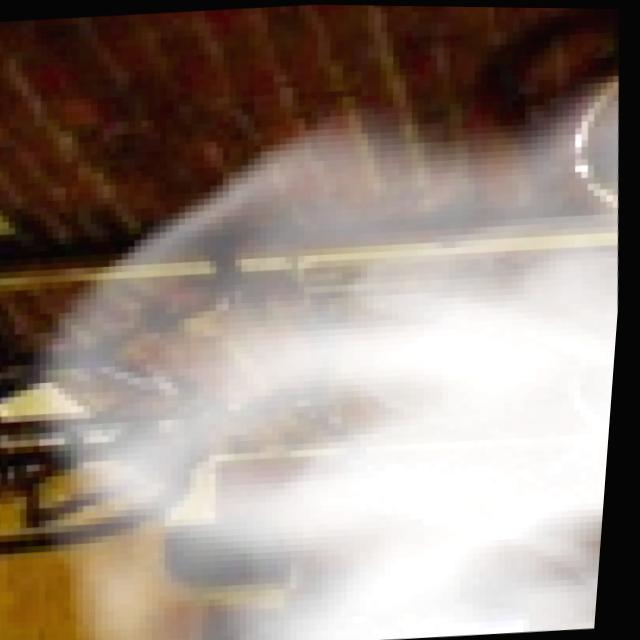smoke: (0, 66, 636, 640)
